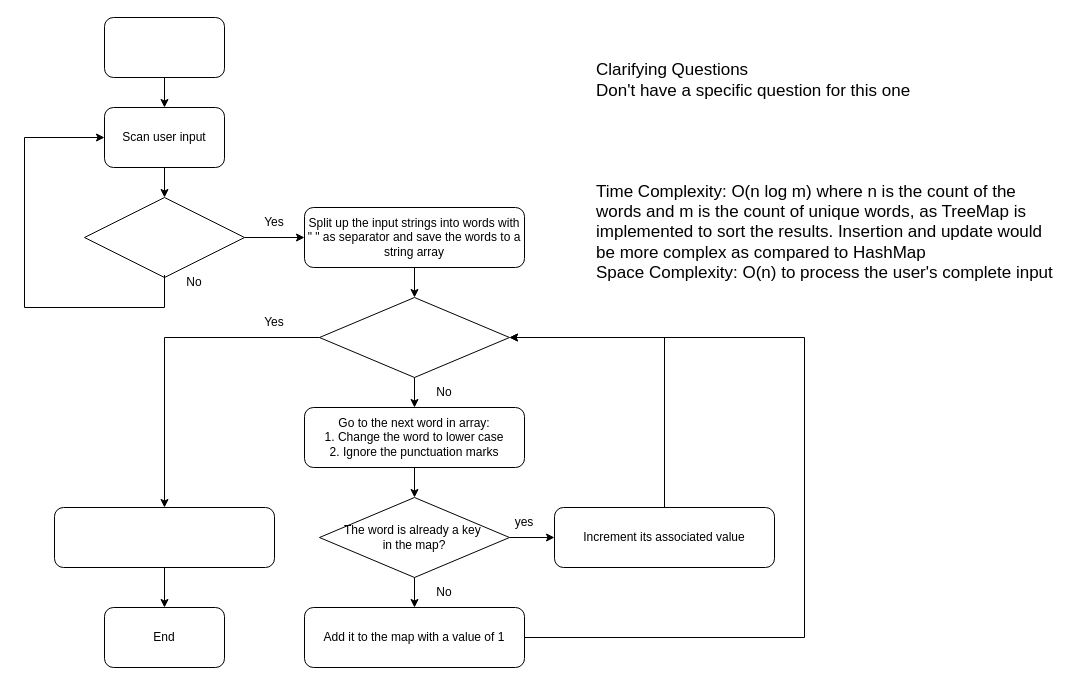
Image size: 1072x685. Some labels were removed from this diagram. Each missing label, with the box of its shape:
Has user typed "exit"?: (84, 196, 244, 278)
Have we iterated every word in the array?: (318, 296, 510, 378)
Print out the keys (word) and value (count if appearance): (54, 506, 274, 568)
Start: (104, 16, 224, 78)
